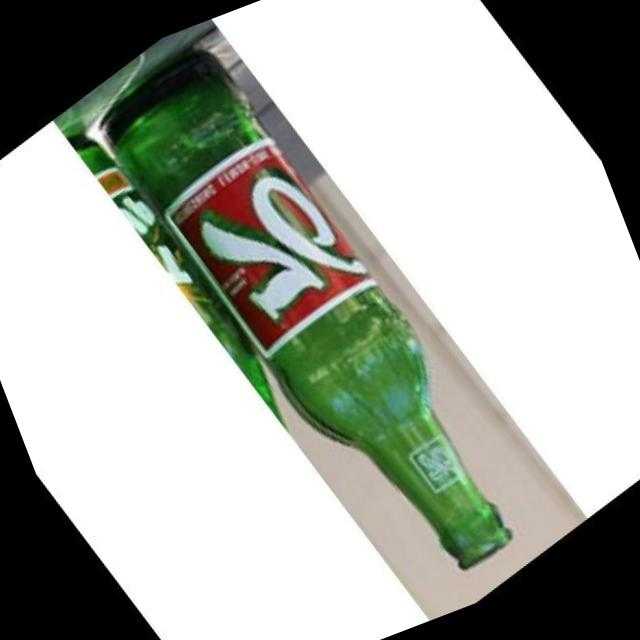BotolKaca: (83, 7, 520, 639)
